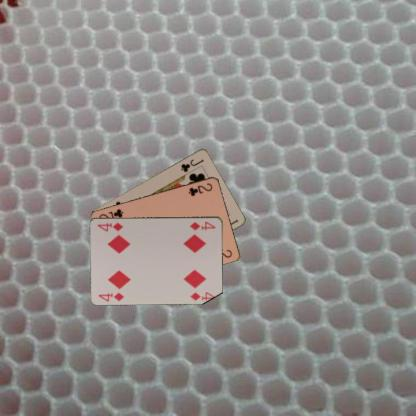2c: (186, 180, 214, 197)
4d: (96, 290, 126, 302), (188, 219, 216, 231)
Jc: (178, 156, 206, 173)
